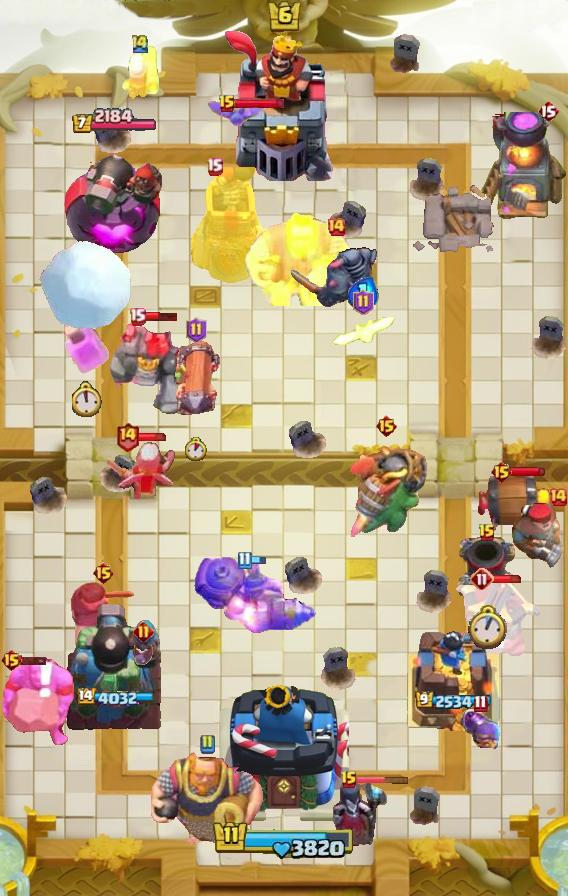archer-queen: (0, 656, 80, 750)
barbarian: (330, 315, 396, 347), (206, 100, 272, 128)
barbarian-barrel: (131, 638, 155, 668)
battle-healer: (171, 341, 221, 423)
cannoneer-tower: (108, 321, 194, 417)
clock: (212, 819, 356, 861)
electro-spirit: (349, 278, 379, 310)
elixir: (469, 606, 508, 651), (73, 381, 104, 417), (185, 437, 207, 461)
emote: (234, 97, 285, 110), (356, 776, 410, 785), (510, 466, 546, 478), (12, 654, 48, 666), (143, 311, 179, 322), (137, 432, 169, 442), (492, 574, 524, 584), (249, 554, 267, 566)
firecracker-evolution: (459, 707, 501, 749)
giant-skeleton: (149, 747, 265, 847), (244, 212, 354, 306)
golemite: (291, 229, 381, 309)
hunter: (480, 112, 568, 222)
king-tower: (219, 678, 349, 826), (223, 31, 345, 181)
knight-evolution: (64, 322, 110, 375)
lava-pup: (453, 578, 541, 660)
musketeer: (455, 535, 519, 601)
night-witch: (344, 434, 428, 548)
phoenix-small: (508, 500, 568, 572)
poison: (102, 433, 188, 509)
queen-tower: (405, 621, 501, 731)
rascal-boy: (333, 779, 389, 851)
royal-hog: (69, 580, 137, 658)
selected: (70, 109, 157, 136), (74, 688, 154, 708), (416, 691, 493, 711)
text: (115, 420, 140, 451), (470, 567, 494, 591), (353, 289, 375, 315), (374, 414, 397, 438), (491, 460, 514, 484), (93, 561, 116, 585), (1, 648, 24, 672), (185, 317, 206, 343), (537, 99, 559, 123), (133, 621, 154, 643), (130, 33, 150, 55), (326, 217, 346, 237), (548, 487, 568, 507), (218, 94, 236, 114), (478, 523, 496, 543), (340, 770, 358, 790), (130, 307, 147, 326), (199, 734, 215, 754), (206, 157, 223, 175), (472, 694, 487, 713), (236, 551, 251, 569)
the-log: (474, 471, 554, 531)
tombstone: (119, 43, 161, 101)
tower-bar: (64, 601, 164, 731), (64, 138, 164, 256)
wall-breaker: (39, 239, 133, 331)
wizard: (193, 556, 317, 634)
zappy: (188, 163, 273, 285)
